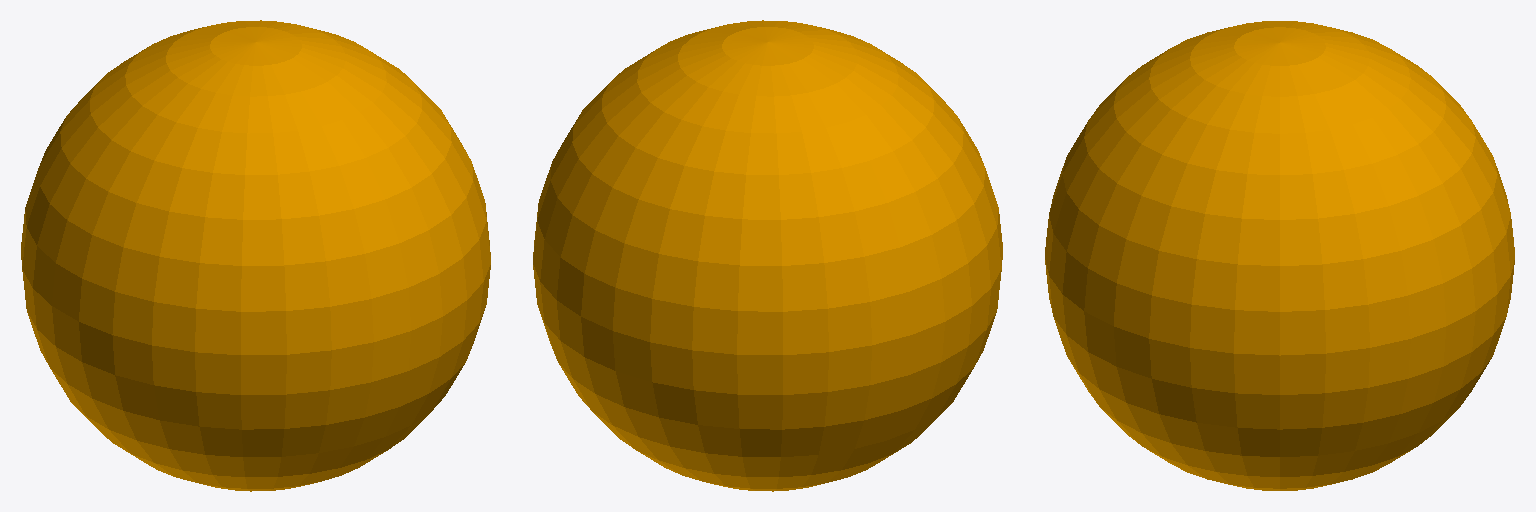
URDF robot description (Point1):
<?xml version="1.0"?>
<robot name="Point1">
  <link name="Point1">
    <inertial>
      <origin xyz="0 0 0" /> 
      <mass value="0.1" />
      <inertia  ixx="1.0" ixy="0.0"  ixz="0.0"  iyy="1.0"  iyz="0.0"  izz="1.0" />
    </inertial>
    <visual>
      <origin xyz="-0.0411719 0.031241 -0.8151871" rpy="0 0 0"/>
      <geometry>
        <sphere radius="0.01"/>
      </geometry>
    </visual>
    <collision>
      <origin xyz="-0.0411719 0.031241 -0.8151871" rpy="0 0 0"/>
      <geometry>
        <sphere radius="0"/>
      </geometry>
    </collision>
  </link>
  <gazebo reference="Point1">
    <material>Gazebo/Red</material>
    <turnGravityOff>true</turnGravityOff>
  </gazebo>
</robot>

--- Facts derived from the render (not from the file) ---
The picture shows the robot from 3 angles, left to right: view 1: azimuth 30°, elevation 25°; view 2: azimuth 150°, elevation 25°; view 3: azimuth 270°, elevation 25°; orthographic projection.
Model Point1 with 1 links and 0 joints (none), rooted at Point1, posed all joints at 0.
Visible links, largest first — view 1: Point1; view 2: Point1; view 3: Point1.
Boxes of the visible links, left/top/right/bottom form: Point1: left=21, top=20, right=490, bottom=491; Point1: left=533, top=20, right=1002, bottom=491; Point1: left=1045, top=21, right=1514, bottom=490.
Size in the robot's own frame: 0.02 by 0.02 by 0.02 metres.
Geometry: primitives only (box / cylinder / sphere), no mesh files.